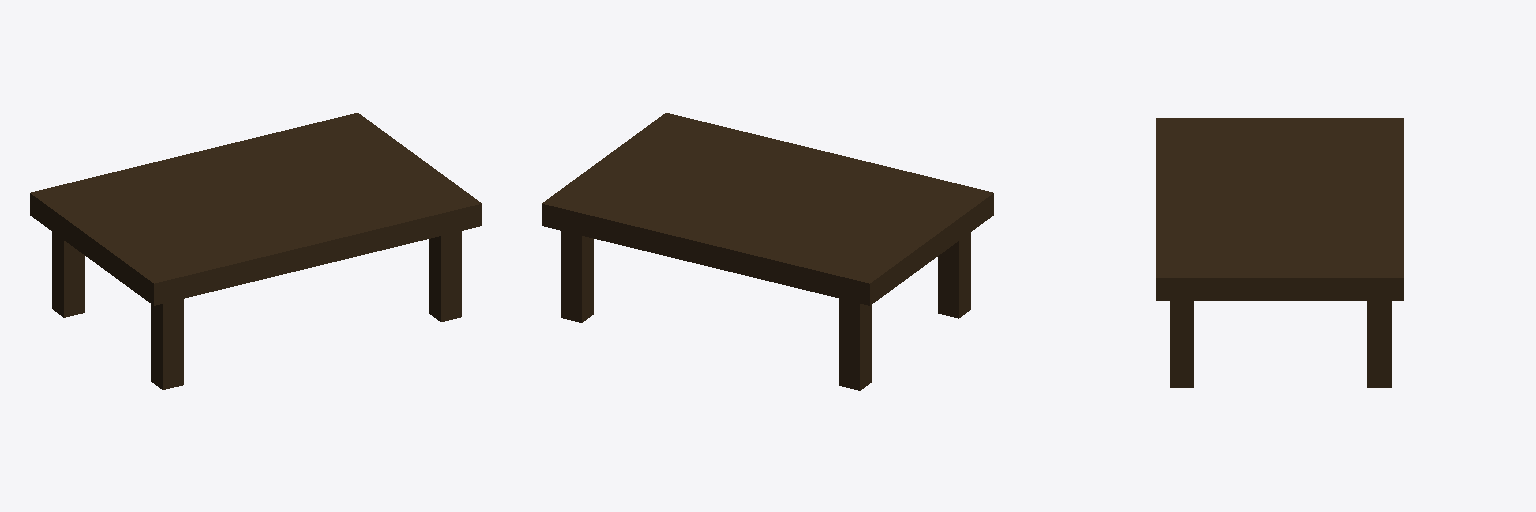
The model's file is table.obj.
3 renders of one model, left to right at view 1: azimuth 30°, elevation 25°; view 2: azimuth 150°, elevation 25°; view 3: azimuth 270°, elevation 25°, orthographic.
Visible parts, largest first — view 1: Cube.004, Cube.003, Cube.002, Cube; view 2: Cube.004, Cube, Cube.001, Cube.003; view 3: Cube.004, Cube.001, Cube.002.
Boxes of the visible parts, <box> form: Cube.004: <box>30,113,481,305</box>; Cube.003: <box>151,299,183,389</box>; Cube.002: <box>429,231,461,321</box>; Cube: <box>52,232,84,317</box>; Cube.004: <box>542,113,993,305</box>; Cube: <box>839,299,871,390</box>; Cube.001: <box>561,231,593,322</box>; Cube.003: <box>938,232,970,318</box>; Cube.004: <box>1156,118,1403,300</box>; Cube.001: <box>1367,301,1391,387</box>; Cube.002: <box>1170,301,1193,387</box>.
Bounding box in the file's own units: 3.08 × 1.04 × 2.02.